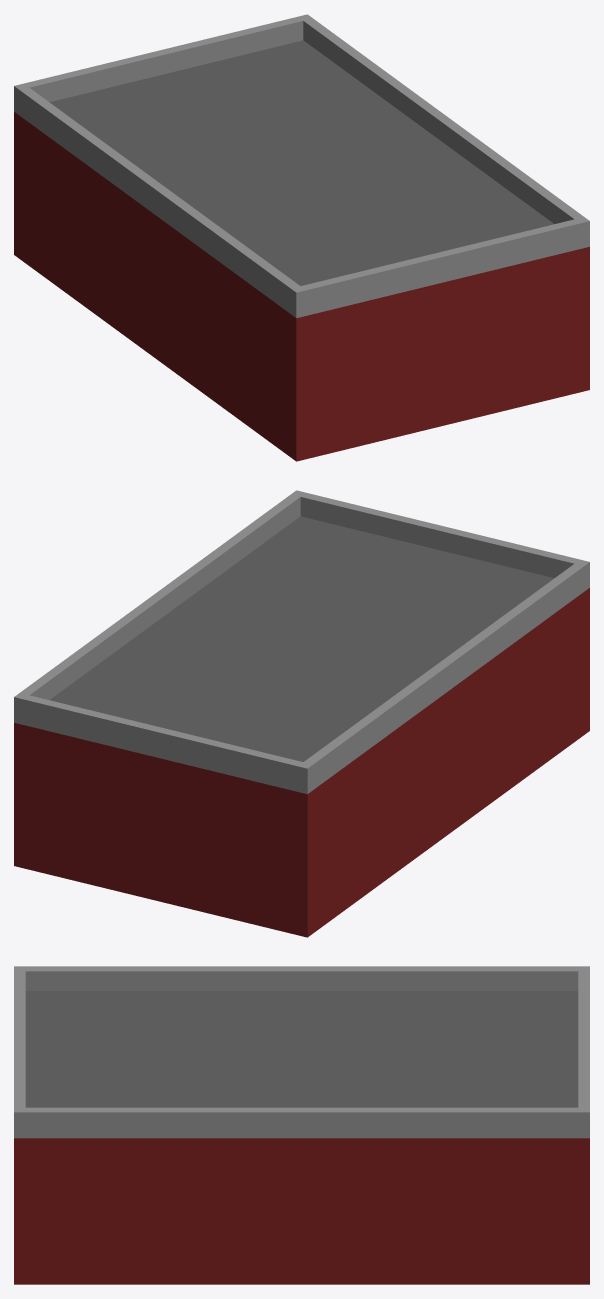
The model's file is Building_15_25_70.FBX.
3 views of the same model, one above another, from view 1: azimuth 30°, elevation 25°; view 2: azimuth 150°, elevation 25°; view 3: azimuth 270°, elevation 25° (orthographic).
Parts seen in each view (by area): view 1: BakedBuilding_2014741032845352; view 2: BakedBuilding_2014741032845352; view 3: BakedBuilding_2014741032845352.
Boxes of the visible parts, <box> form: BakedBuilding_2014741032845352: <box>14,14,589,461</box>; BakedBuilding_2014741032845352: <box>14,490,589,937</box>; BakedBuilding_2014741032845352: <box>14,966,589,1284</box>.
Bounding box in the file's own units: 1500 × 825 × 2500.
